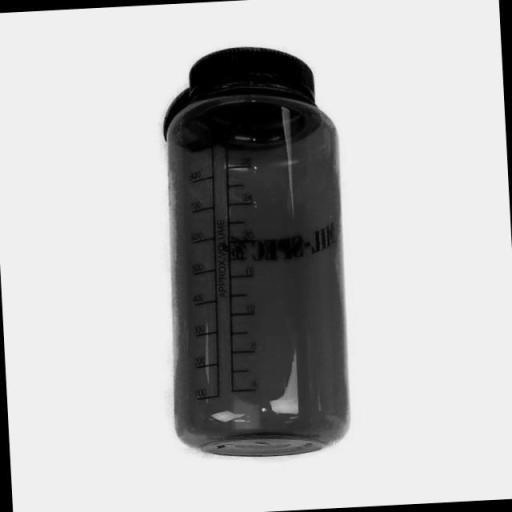bottle: (154, 44, 356, 465)
